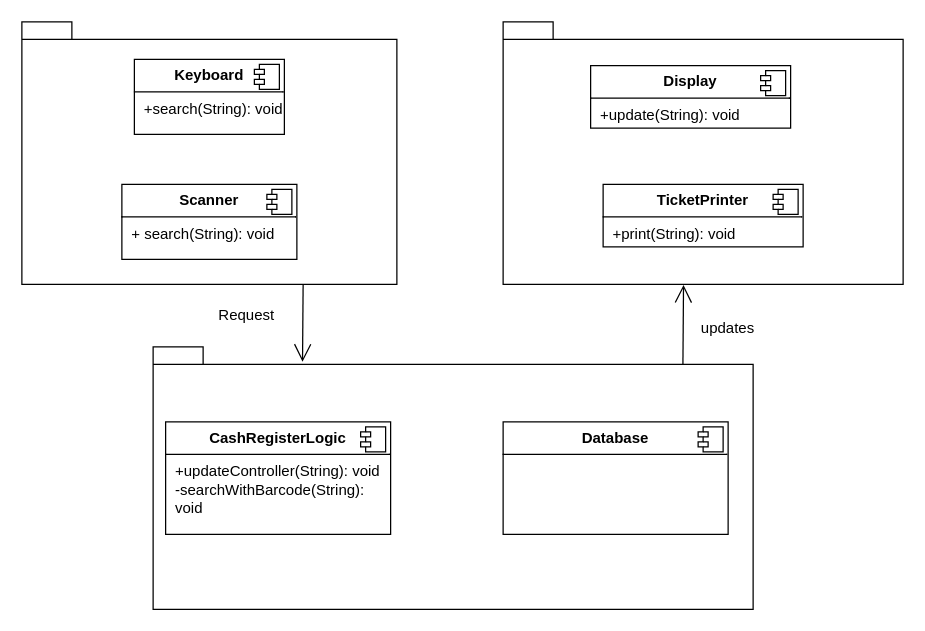
The diagram is 925 pixels wide and 631 high, and some of its shapes have lost their labels. Here are the shapes that lost their labels. From the top down, the box of each, then its label:
(21, 21, 397, 284): Controller
(502, 21, 903, 284): Viewer
(152, 346, 753, 609): Model
